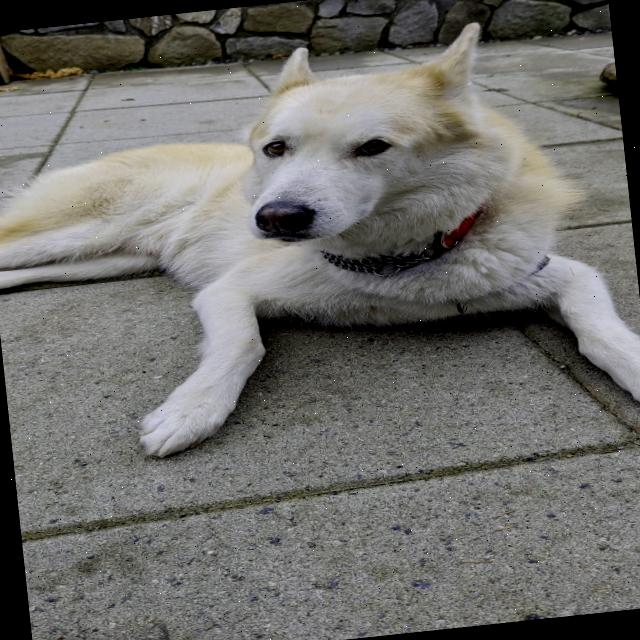siberian_husky_dog: (204, 4, 540, 278)
